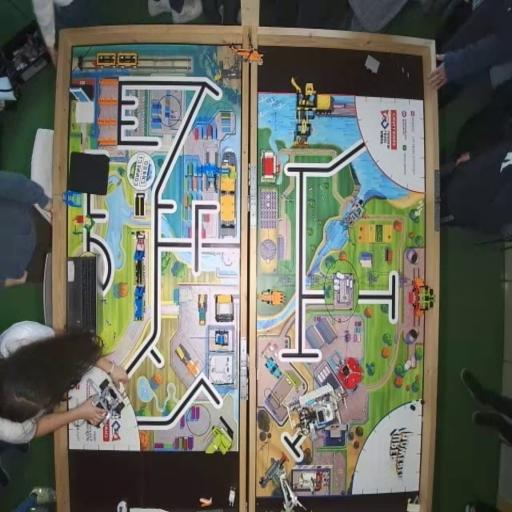lego_robot: (286, 382, 348, 442), (91, 377, 127, 422)
